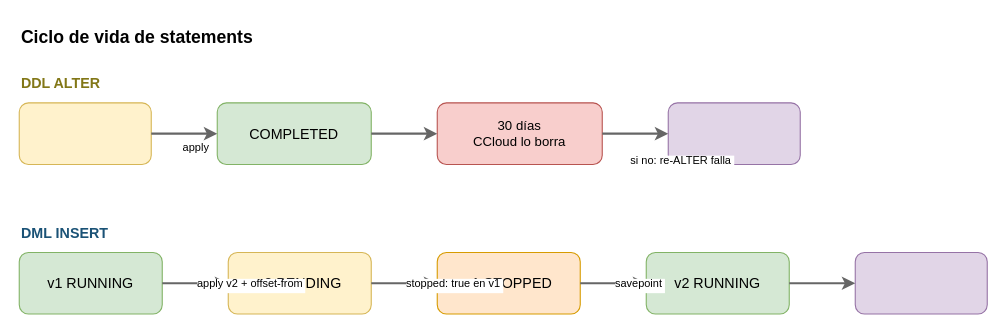
The diagram is 1007 pixels wide and 333 high, and some of its shapes have lost their labels. Here are the shapes that lost their labels. From the top down, the centre of each, then its label:
At pixel 84 133: "once".
At pixel 733 133: "ignore".
At pixel 920 282: "v1 ignore".
